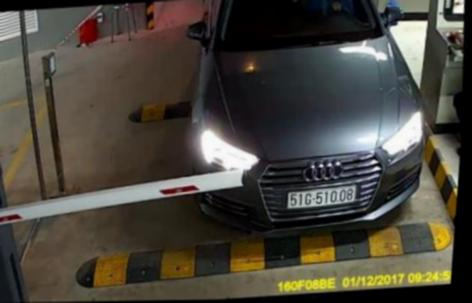License_Plate: (278, 186, 362, 209)
